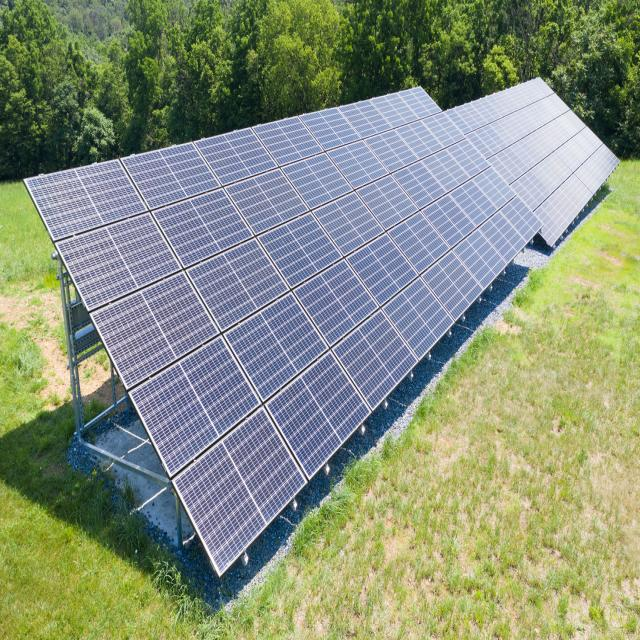clean-solar-panel: (26, 78, 618, 573)
